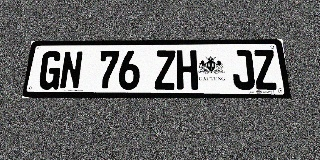6: (118, 51, 140, 90)
7: (96, 51, 119, 90)
G: (37, 51, 63, 90)
H: (176, 50, 198, 90)
J: (231, 50, 256, 90)
N: (59, 51, 83, 90)
Z: (252, 50, 278, 90), (155, 50, 176, 90)
